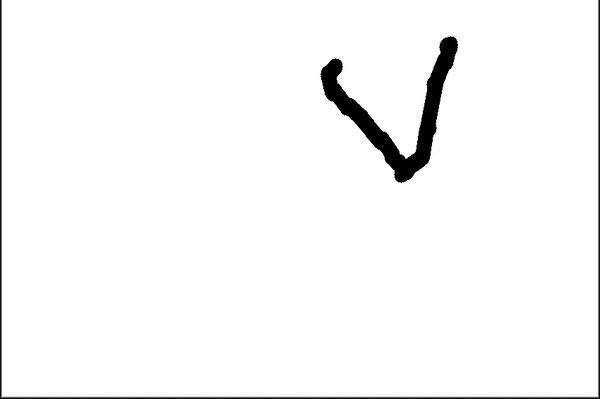V: (301, 22, 464, 197)
